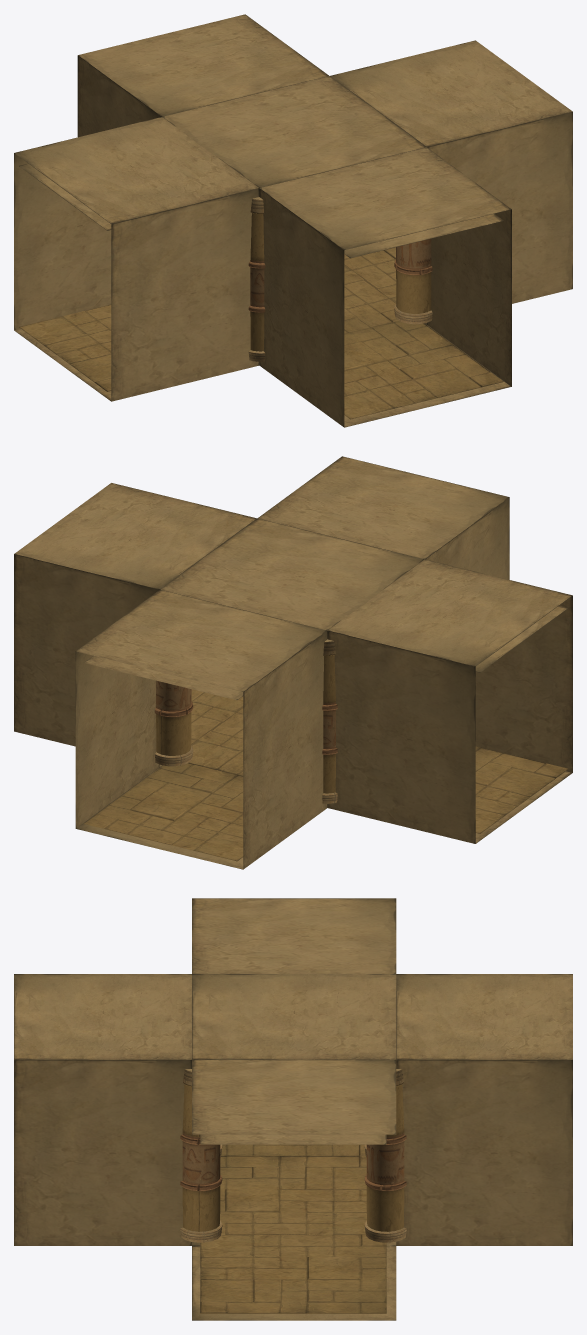
The model's file is m_Cross01.FBX.
3 renders of one model, top to bottom at view 1: azimuth 30°, elevation 25°; view 2: azimuth 150°, elevation 25°; view 3: azimuth 270°, elevation 25°, orthographic. The views are drawn at different scales.
Parts seen in each view (by area): view 1: m_Cross01; view 2: m_Cross01; view 3: m_Cross01.
Boxes of the visible parts, x1=… form: m_Cross01: x1=14, y1=14, x2=572, y2=427; m_Cross01: x1=14, y1=456, x2=572, y2=869; m_Cross01: x1=14, y1=898, x2=572, y2=1320.
Size of the model in its own units: 300 by 300 by 110.
Materials: 1 (1 with a texture image).
